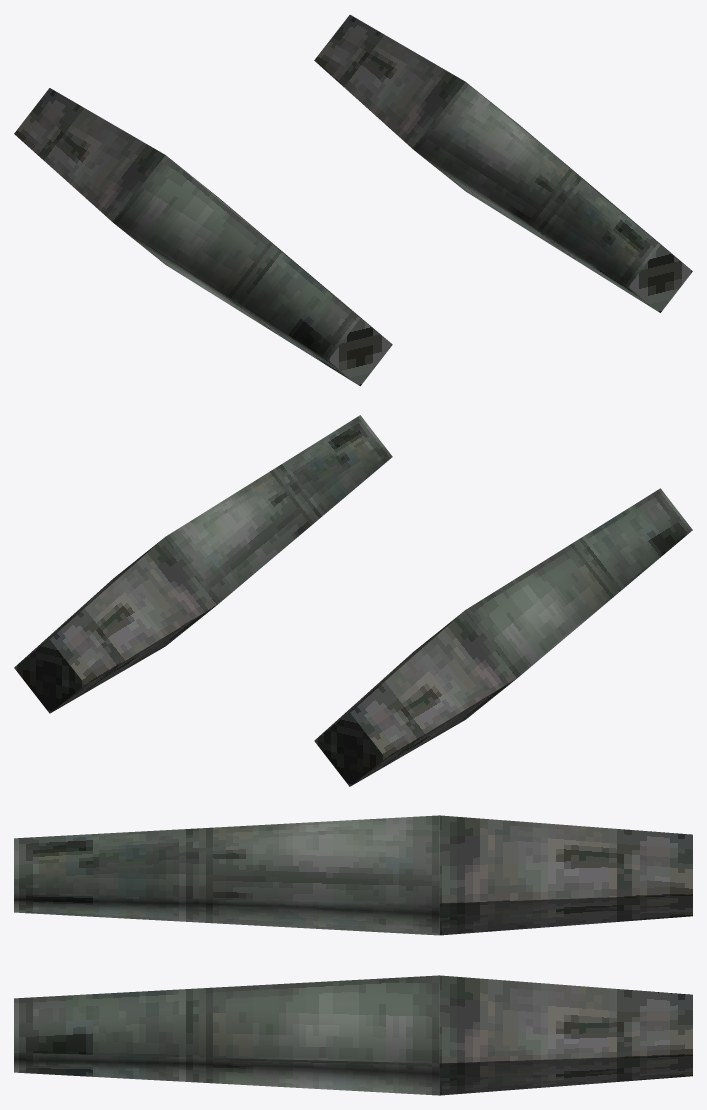
The model's file is black_sun_fighter_heavy_engine_s02_l4.fbx.
The picture shows the model from 3 angles, top to bottom: view 1: azimuth 30°, elevation 25°; view 2: azimuth 150°, elevation 25°; view 3: azimuth 270°, elevation 25°; orthographic projection. The views are drawn at different scales.
Parts seen in each view (by area): view 1: mesh_node; view 2: mesh_node; view 3: mesh_node.
Part boxes in pixels (left/top/right/bottom): mesh_node: left=14, top=15, right=692, bottom=386; mesh_node: left=14, top=415, right=692, bottom=786; mesh_node: left=14, top=815, right=692, bottom=1095.
Size of the model in its own units: 7.76 by 2.01 by 10.3.
Materials: 1 (1 with a texture image).
